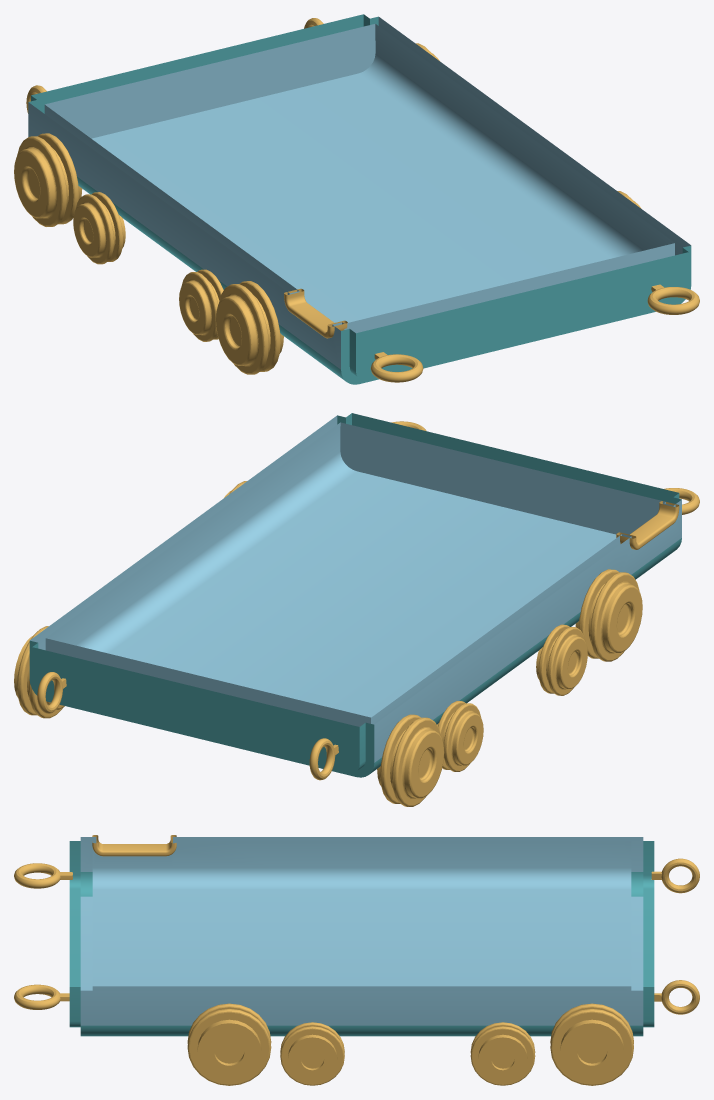
Rendered from vagon_sin_techo.fbx.
The picture shows the model from 3 angles, top to bottom: view 1: azimuth 30°, elevation 25°; view 2: azimuth 150°, elevation 25°; view 3: azimuth 270°, elevation 25°; orthographic projection. The views are drawn at different scales.
Visible parts, largest first — view 1: Cylinder.064; view 2: Cylinder.064; view 3: Cylinder.064.
Part boxes in pixels (<box>): Cylinder.064: <box>14,14,699,384</box>; Cylinder.064: <box>14,413,699,806</box>; Cylinder.064: <box>14,835,699,1085</box>.
Size of the model in its own units: 1856 by 440 by 3045.
